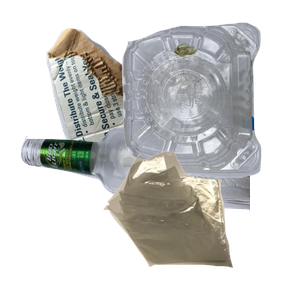cardboard: (44, 26, 209, 186)
glass: (18, 124, 258, 300)
plastic: (119, 20, 300, 190)
trash: (101, 148, 300, 300)
